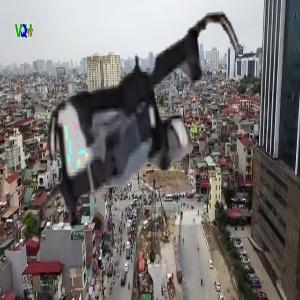drone: (21, 4, 257, 240)
